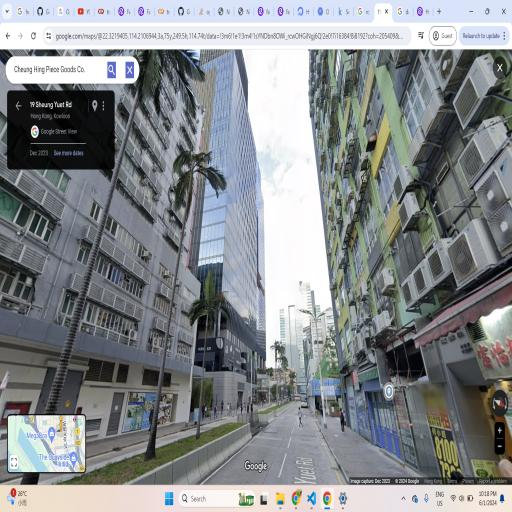Roads: (26, 375, 340, 479)
Trees: (170, 107, 233, 474)
